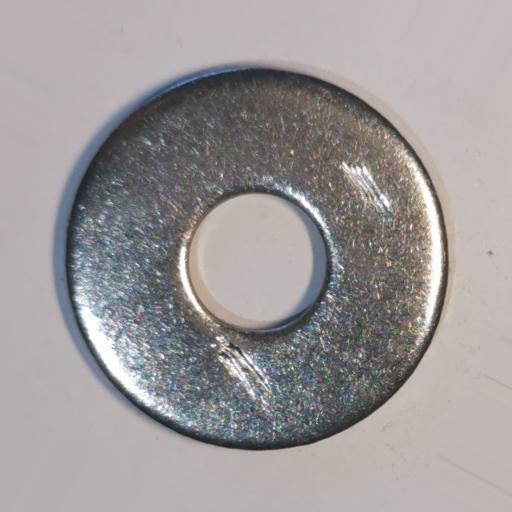scratch: (215, 338, 273, 401), (339, 160, 391, 215)
